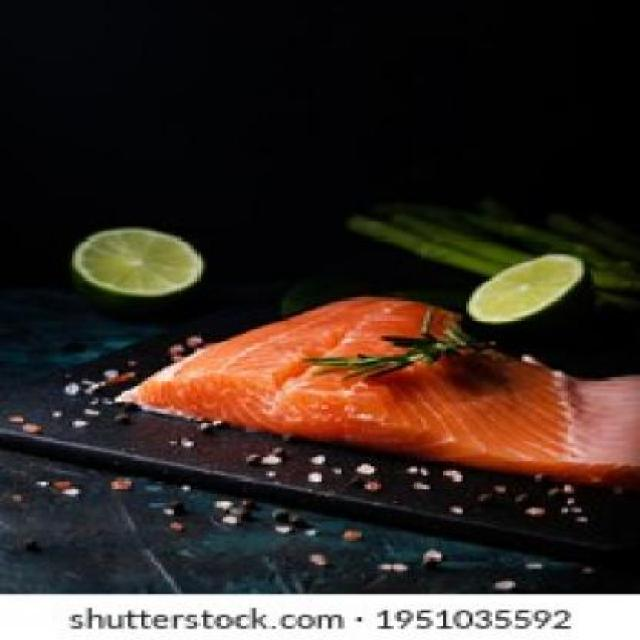salmon: (108, 269, 639, 516)
